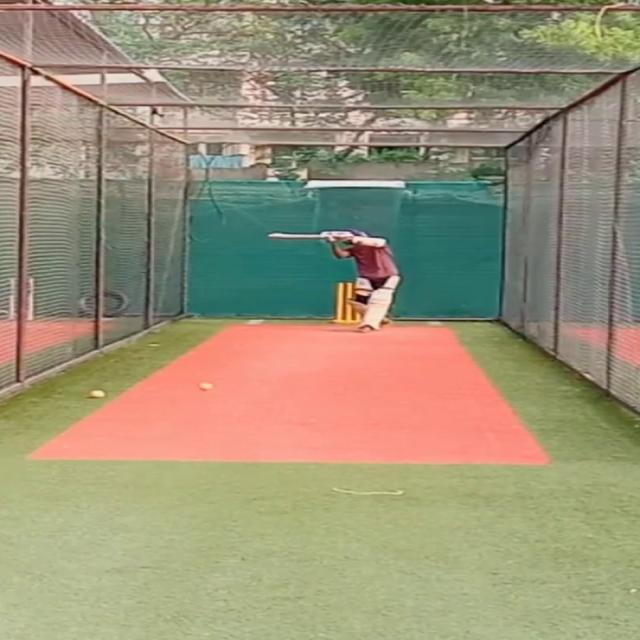ball: (84, 387, 107, 398), (196, 380, 214, 393)
stump: (331, 281, 354, 324)
